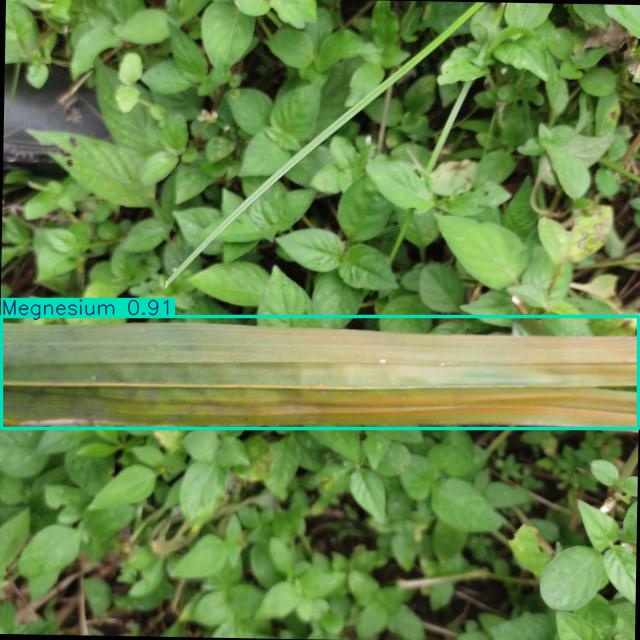Megnesium: (1, 317, 639, 428)
